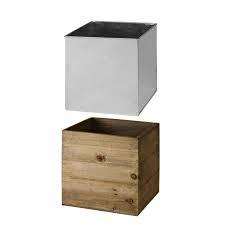cube: (62, 118, 161, 215), (64, 21, 158, 114)
